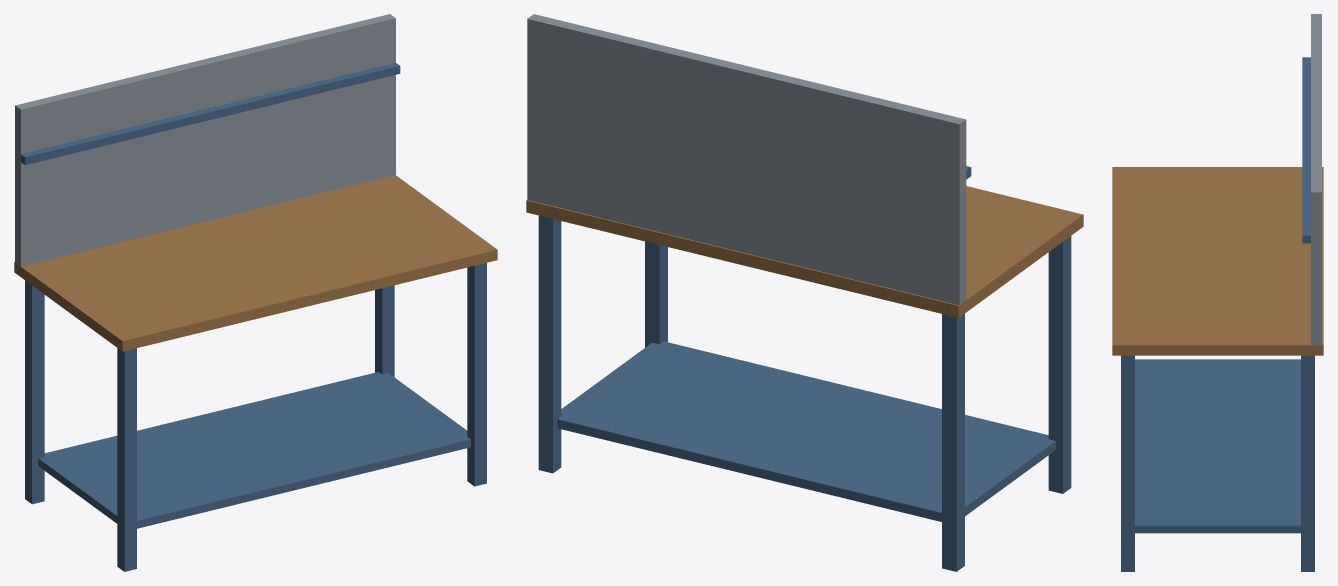
The model's file is bancada.glb.
The picture shows the model from 3 angles, left to right: view 1: azimuth 30°, elevation 25°; view 2: azimuth 150°, elevation 25°; view 3: azimuth 270°, elevation 25°; orthographic projection. The views are drawn at different scales.
Visible parts, largest first — view 1: estrutura; view 2: estrutura; view 3: estrutura.
Boxes of the visible parts, <box> form: estrutura: <box>14,14,497,571</box>; estrutura: <box>526,14,1083,571</box>; estrutura: <box>1112,14,1323,571</box>.
Size of the model in its own units: 1.5 by 1.5 by 0.75.
